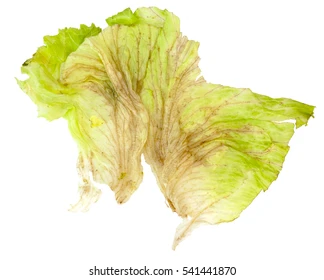lettuce rotten: (15, 9, 294, 237)
